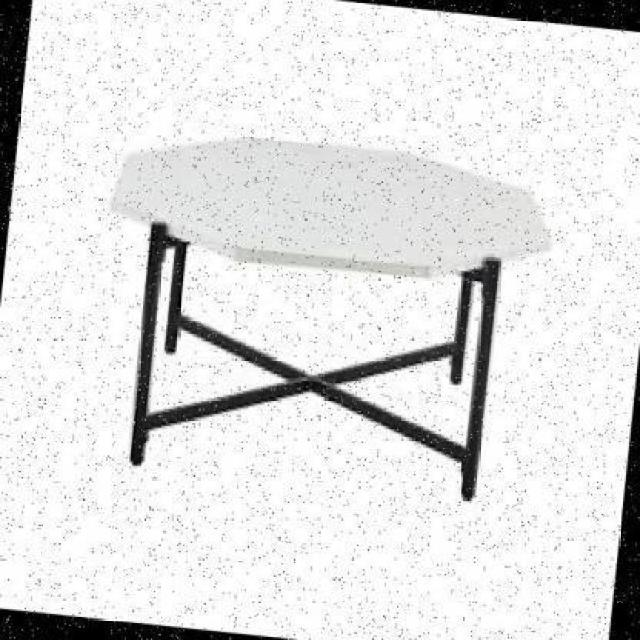tables: (111, 134, 552, 500)
